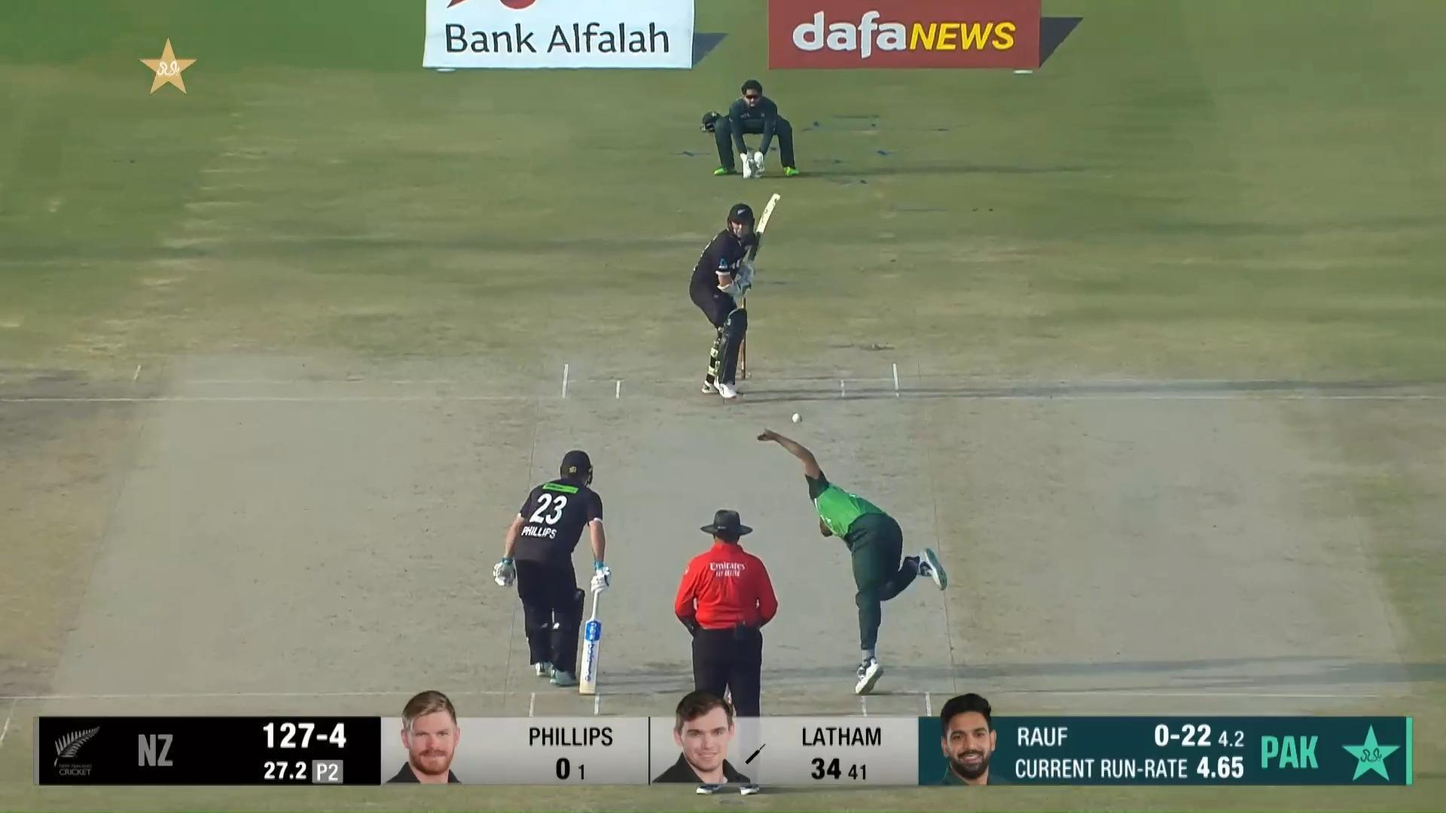BM 1: (688, 193, 783, 401)
BO: (757, 426, 948, 695)
